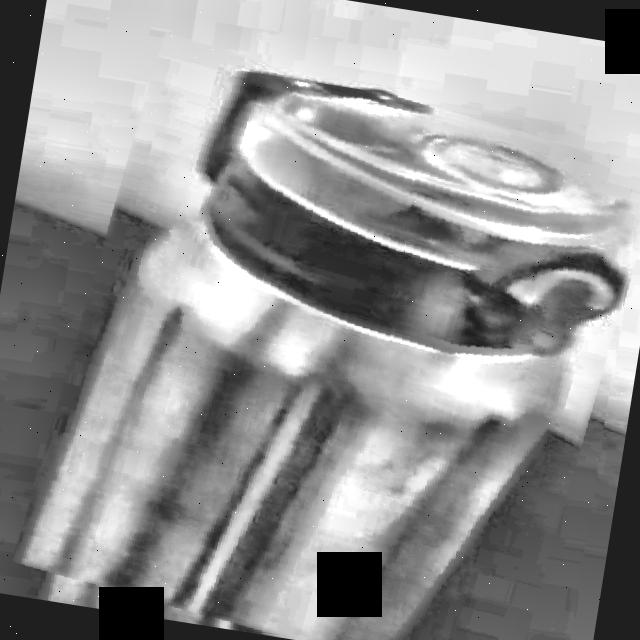bottle: (13, 76, 624, 640)
